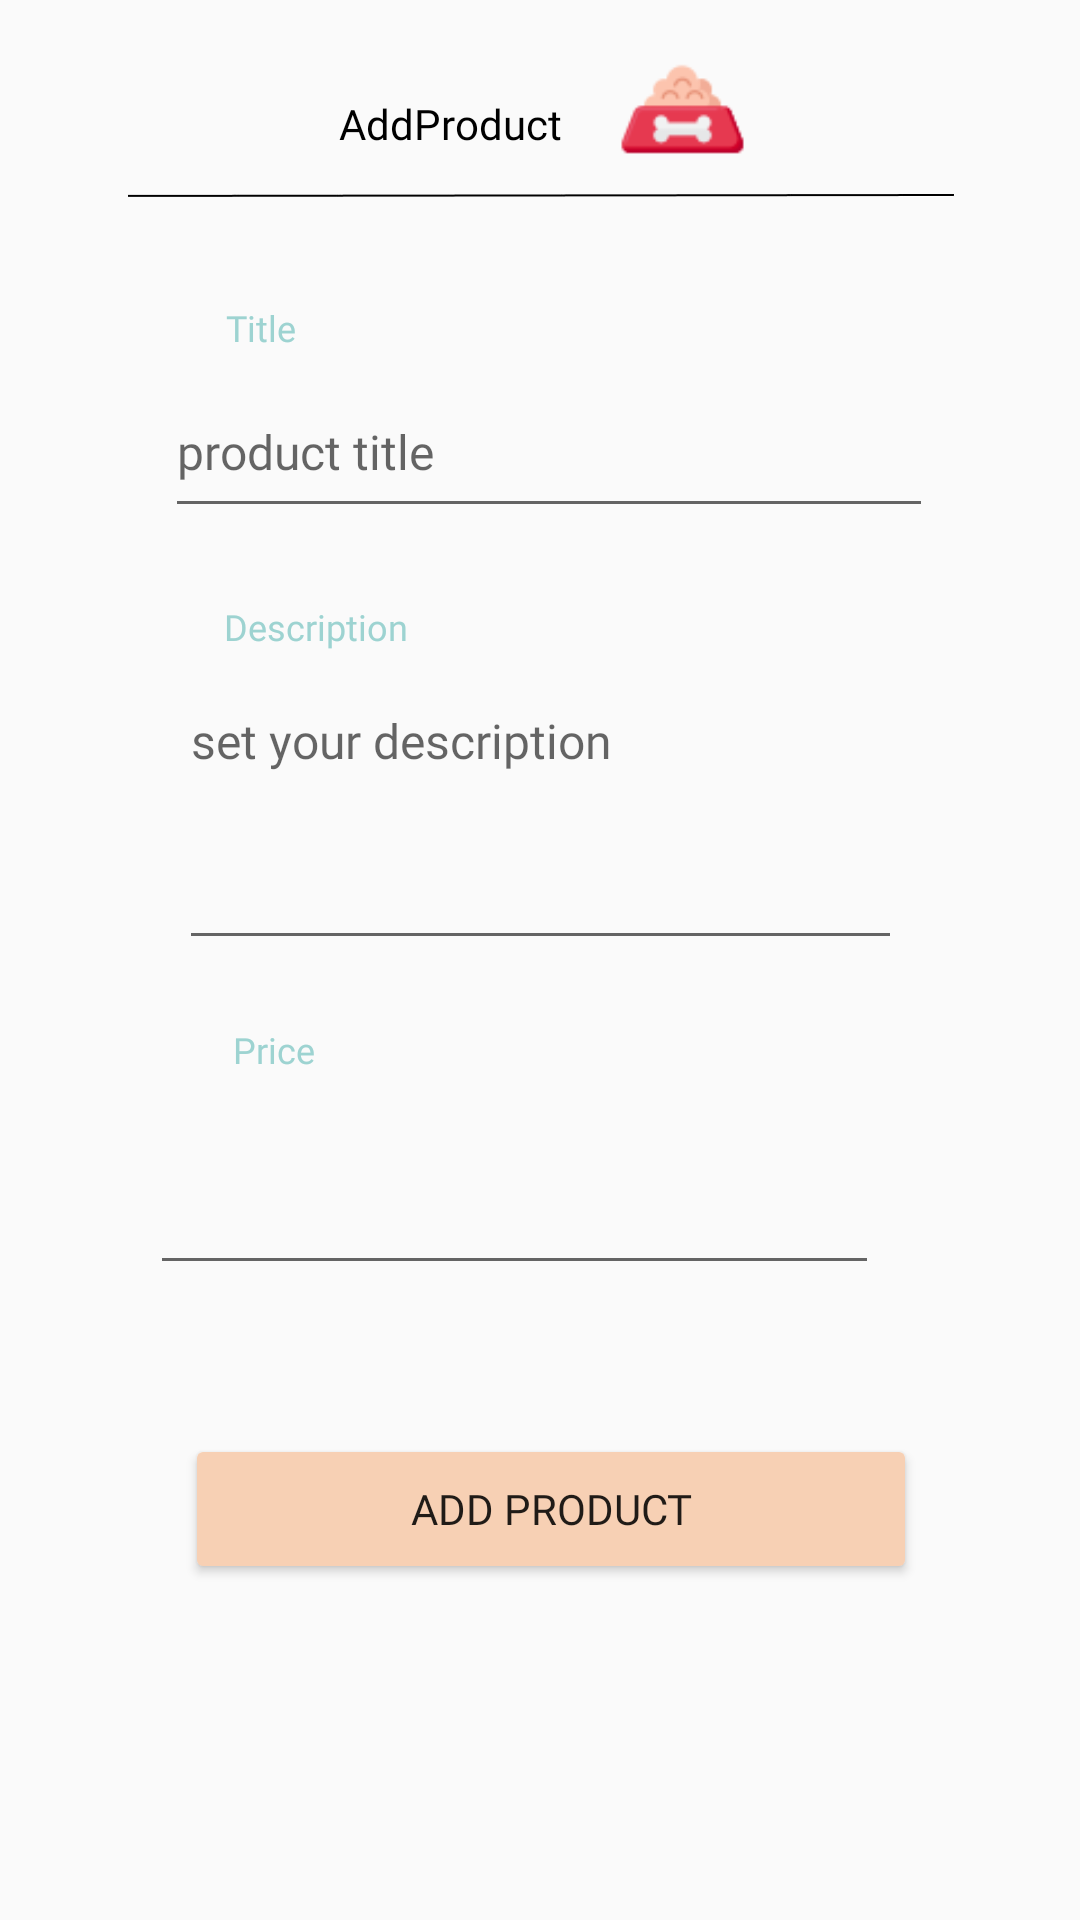

Icon bounding boxes for this 1080 x 1920 phone screenshot, format (x1, y1, x2, y2):
croquettes: (621, 65, 744, 154)
